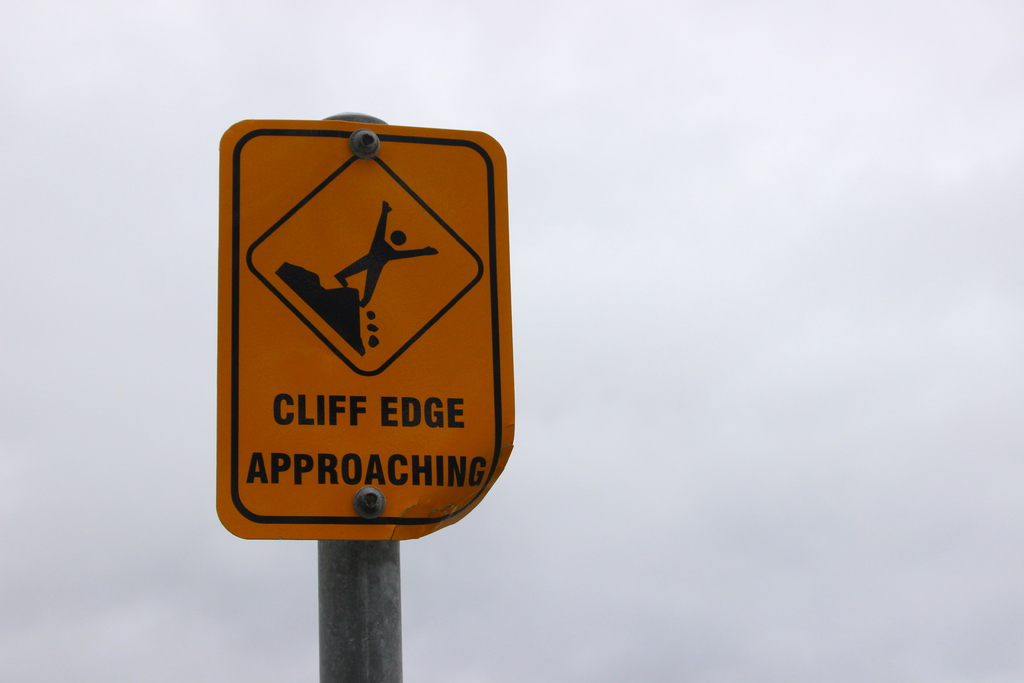cliff_edge: (243, 131, 491, 373)
